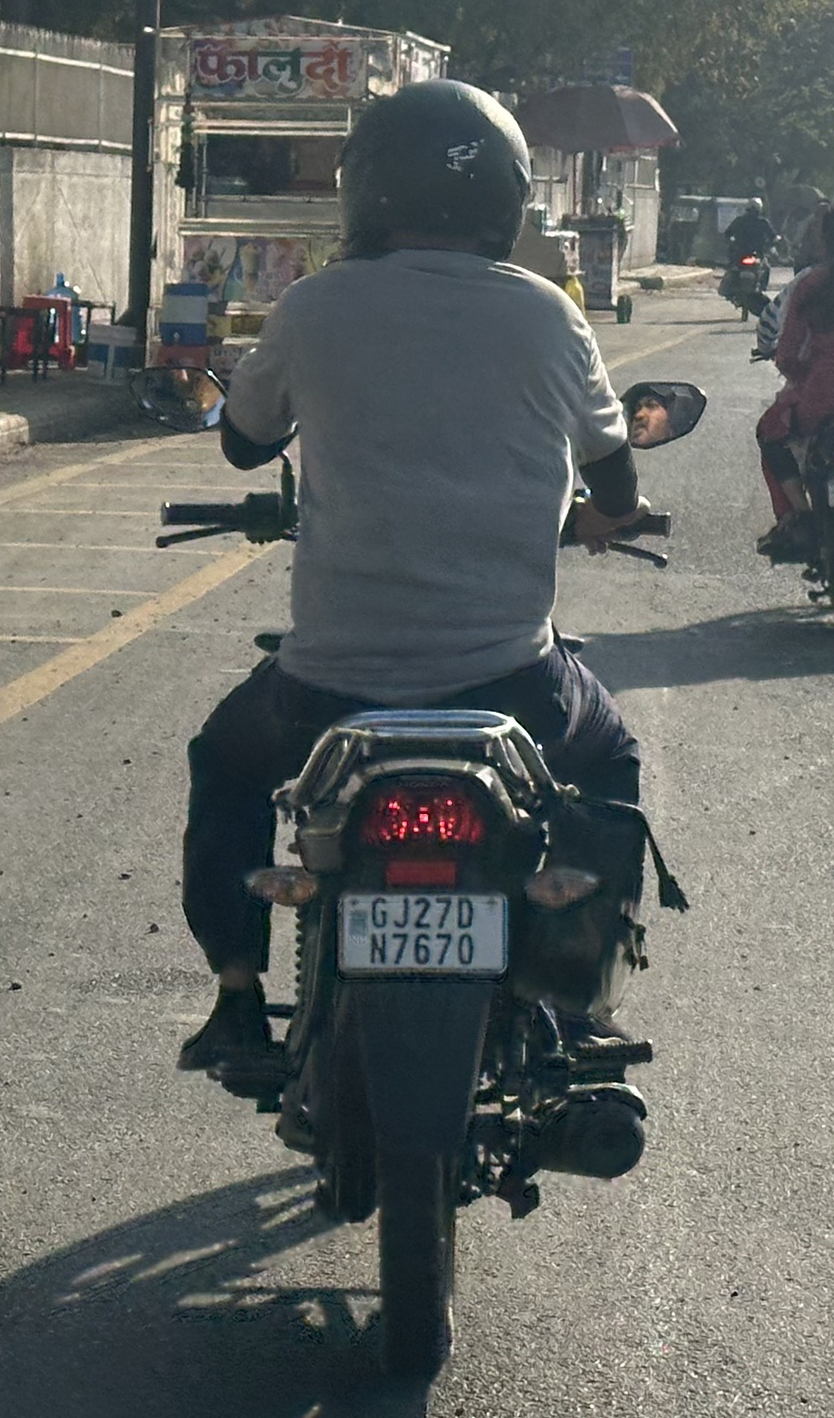BikeWithRider: (111, 62, 720, 1354), (699, 166, 797, 338)
Helmet: (318, 74, 535, 271), (739, 184, 772, 221)
